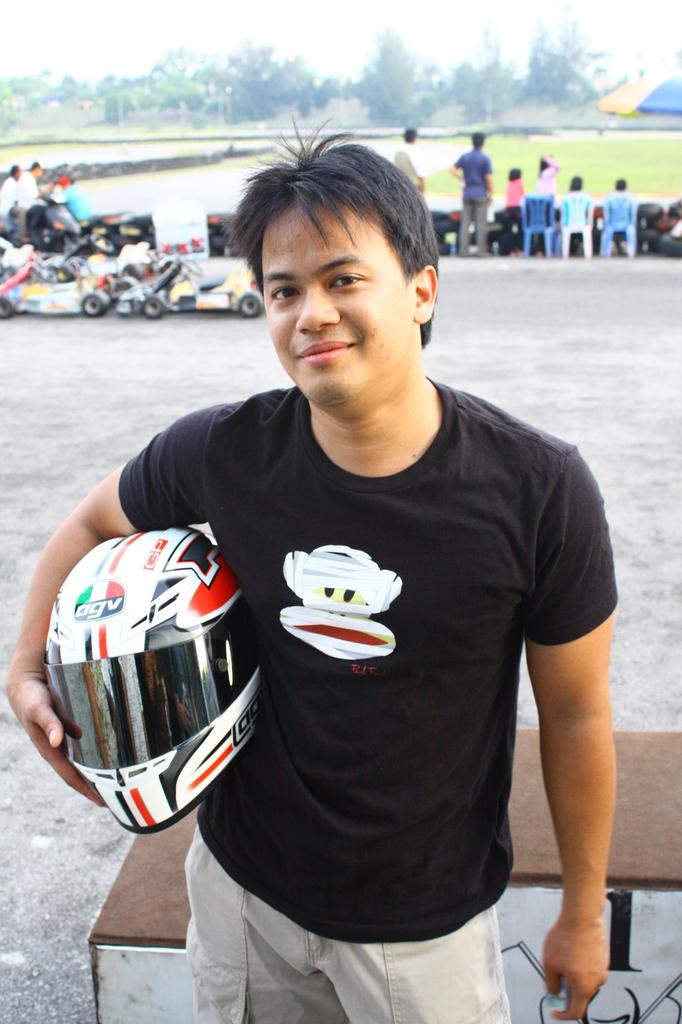helmet: (42, 526, 261, 835)
nohelmet: (233, 145, 440, 416)
